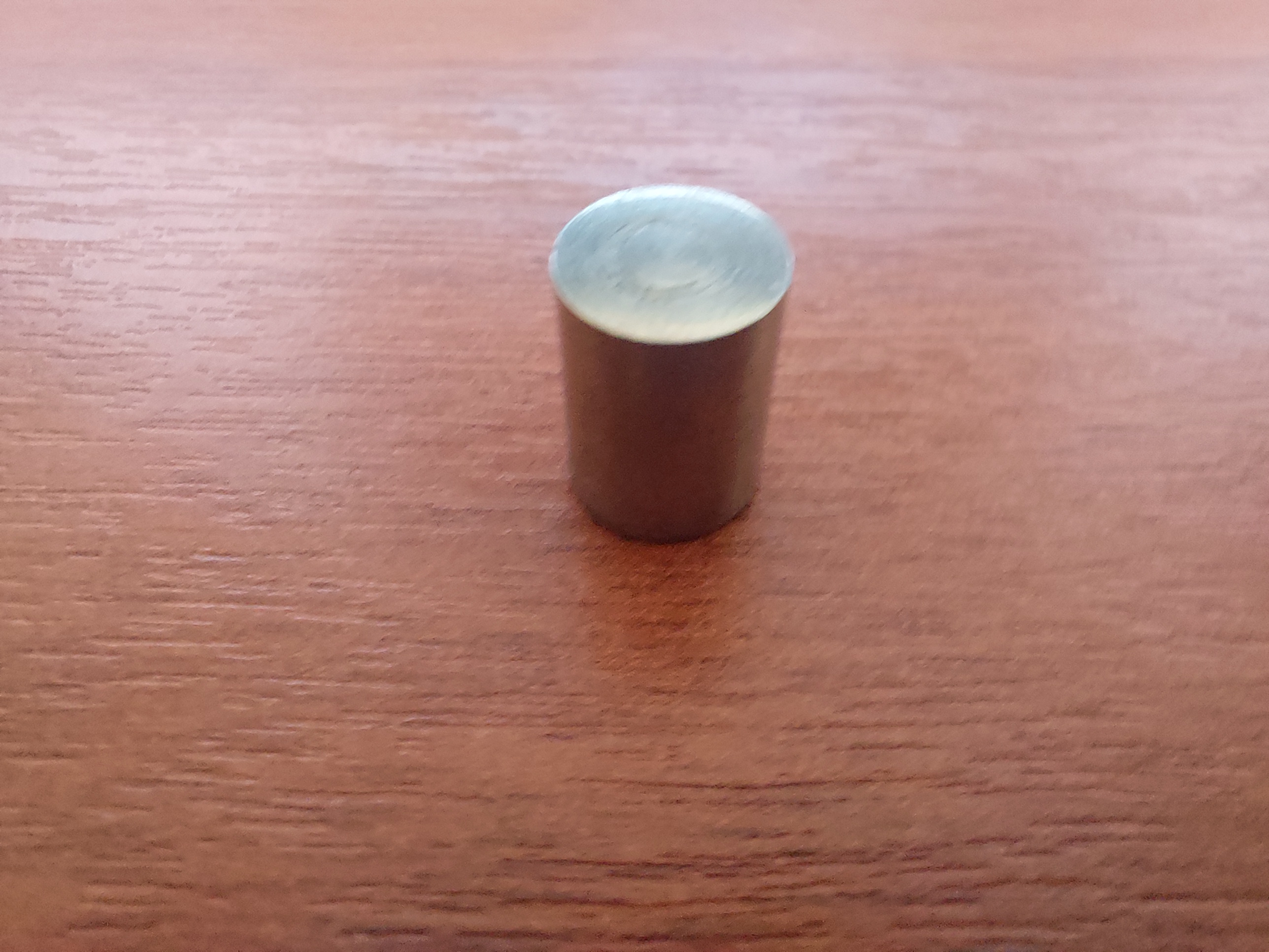tablet: (530, 178, 822, 569)
